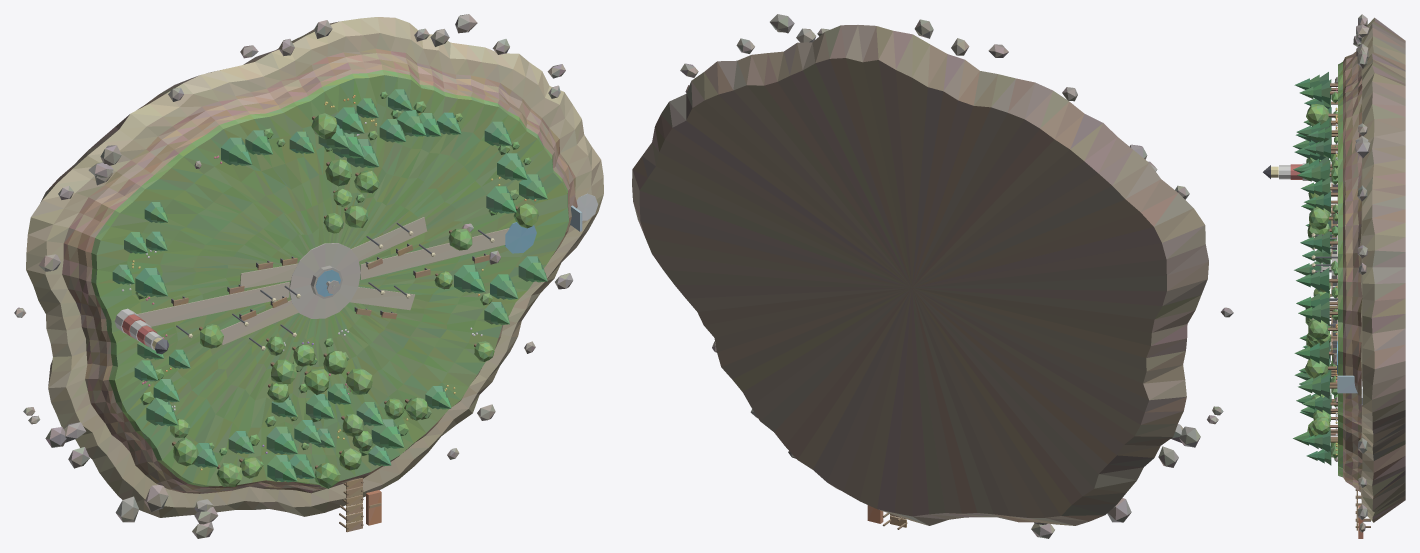
File: ppl_runner_island_v3.glb
3 renders of one model, left to right at view 1: azimuth 30°, elevation 25°; view 2: azimuth 150°, elevation 25°; view 3: azimuth 270°, elevation 25°, orthographic. The views are drawn at different scales.
Visible parts, largest first — view 1: ground, pine, cliff, sand, seabed, leaf, path, rock, stone, wood, water, lighthouse (+1 smaller); view 2: seabed, rock; view 3: seabed, pine, cliff, leaf, ground, rock, trunk, sand, metal, water, lighthouse, wood (+1 smaller).
Part boxes in pixels (x1,y1,x2,y2): ground: (91,70,568,486); pine: (112,89,547,482); cliff: (62,48,577,493); sand: (45,33,591,507); seabed: (26,17,603,517); leaf: (135,91,538,488); path: (137,217,509,345); rock: (14,14,573,538); stone: (289,243,360,318); wood: (173,244,489,532); water: (315,205,582,296); lighthouse: (114,308,163,350); seabed: (632,25,1208,525); rock: (680,14,1233,538); seabed: (1362,17,1405,522); pine: (1293,72,1331,465); cliff: (1343,51,1362,492); leaf: (1304,92,1337,458); ground: (1338,62,1342,477); rock: (1333,14,1370,532); trunk: (1327,83,1337,457); sand: (1361,37,1362,503); metal: (1315,184,1337,353); water: (1337,341,1357,393); lighthouse: (1279,161,1331,182); wood: (1331,183,1370,530).
Bounding box in the file's own units: 36.64 × 30.27 × 8.48.
